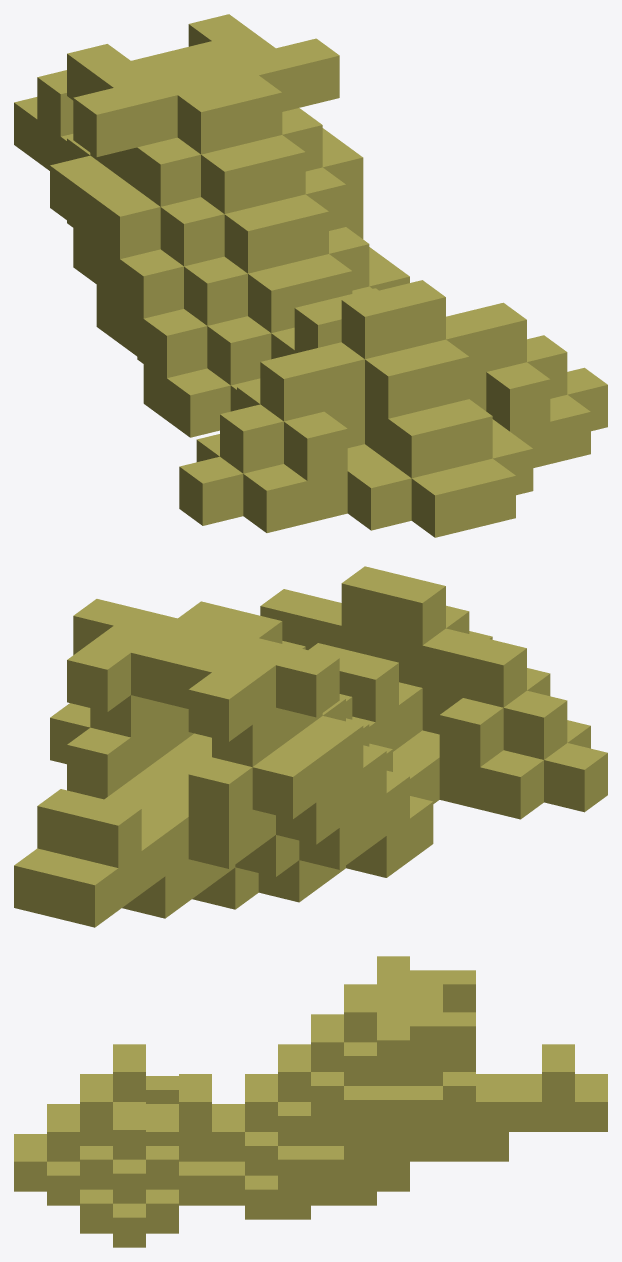
The model's file is Artefact_01.dae.
The picture shows the model from 3 angles, top to bottom: view 1: azimuth 30°, elevation 25°; view 2: azimuth 150°, elevation 25°; view 3: azimuth 270°, elevation 25°; orthographic projection. The views are drawn at different scales.
Visible parts, largest first — view 1: Artefact_01; view 2: Artefact_01; view 3: Artefact_01.
Part boxes in pixels (<box>): Artefact_01: <box>14,14,607,537</box>; Artefact_01: <box>14,566,607,927</box>; Artefact_01: <box>14,956,607,1247</box>.
Bounding box in the file's own units: 1 × 0.6 × 1.8.
Materials: 1 (1 with a texture image).
